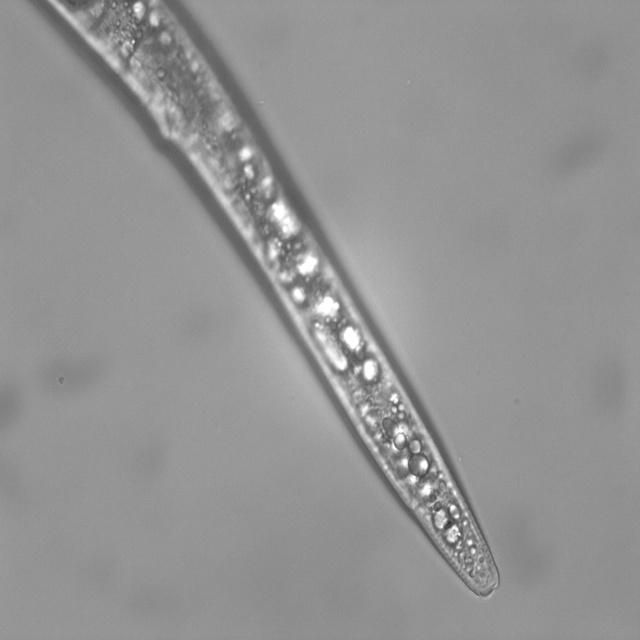Pratylenchus: (210, 145, 515, 609)
